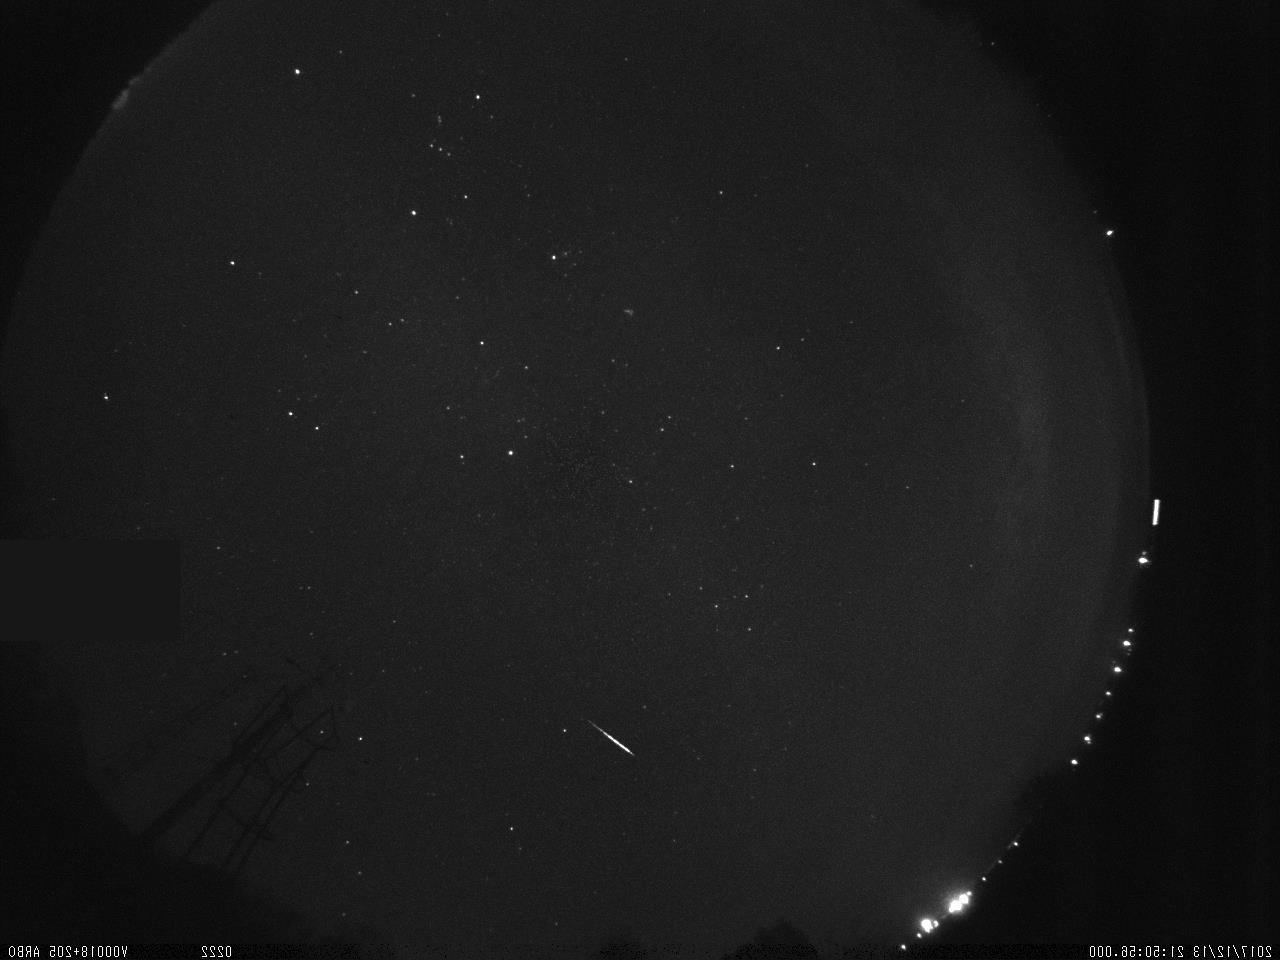meteor: (579, 706, 642, 760)
